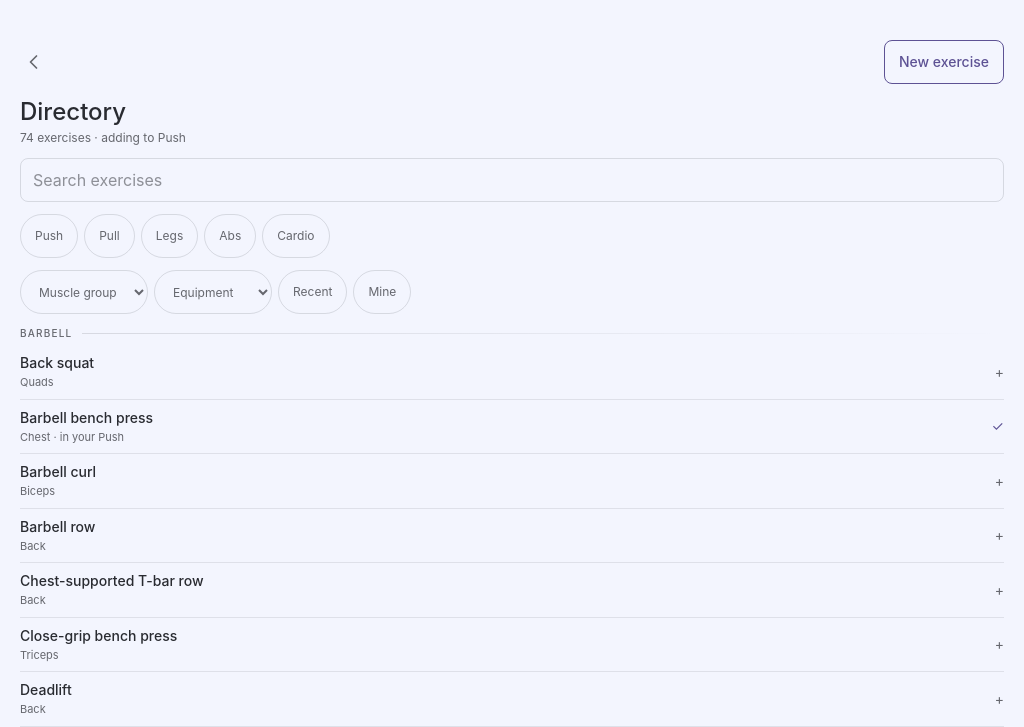
Test case: the directory › narrows by category
Expected: the heading "Directory" is shown, [20, 97, 126, 126]
Click the button "Legs": (170, 236) [141, 214, 198, 258]
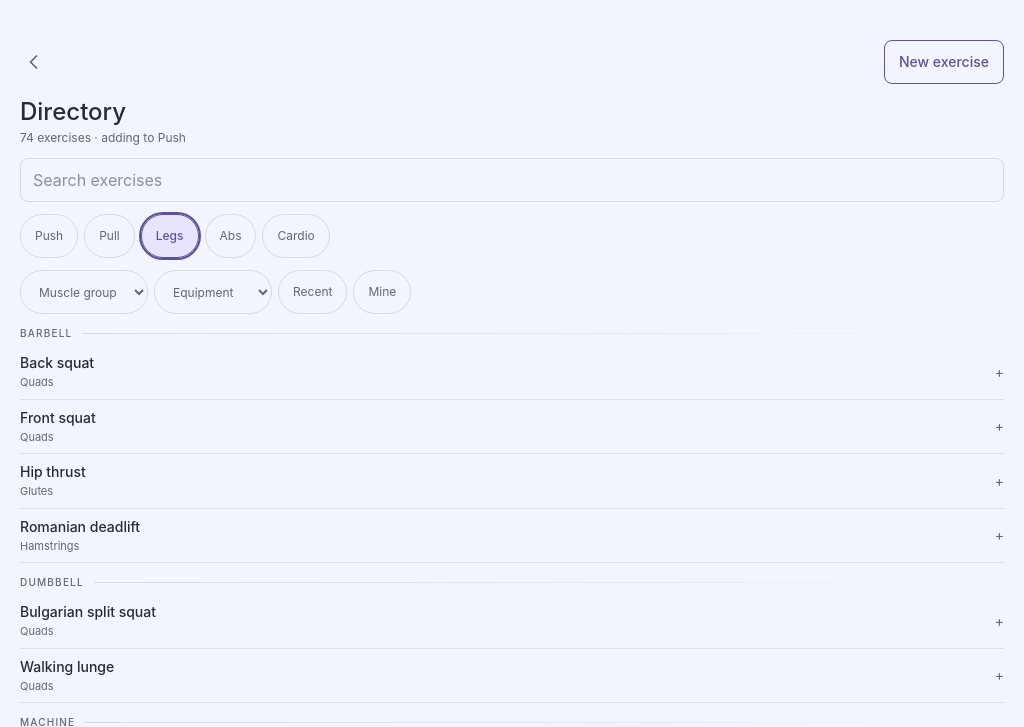
Expected: the text "Back squat" is shown, [20, 354, 94, 371]
Now the button "Barbell bench press" is gone
